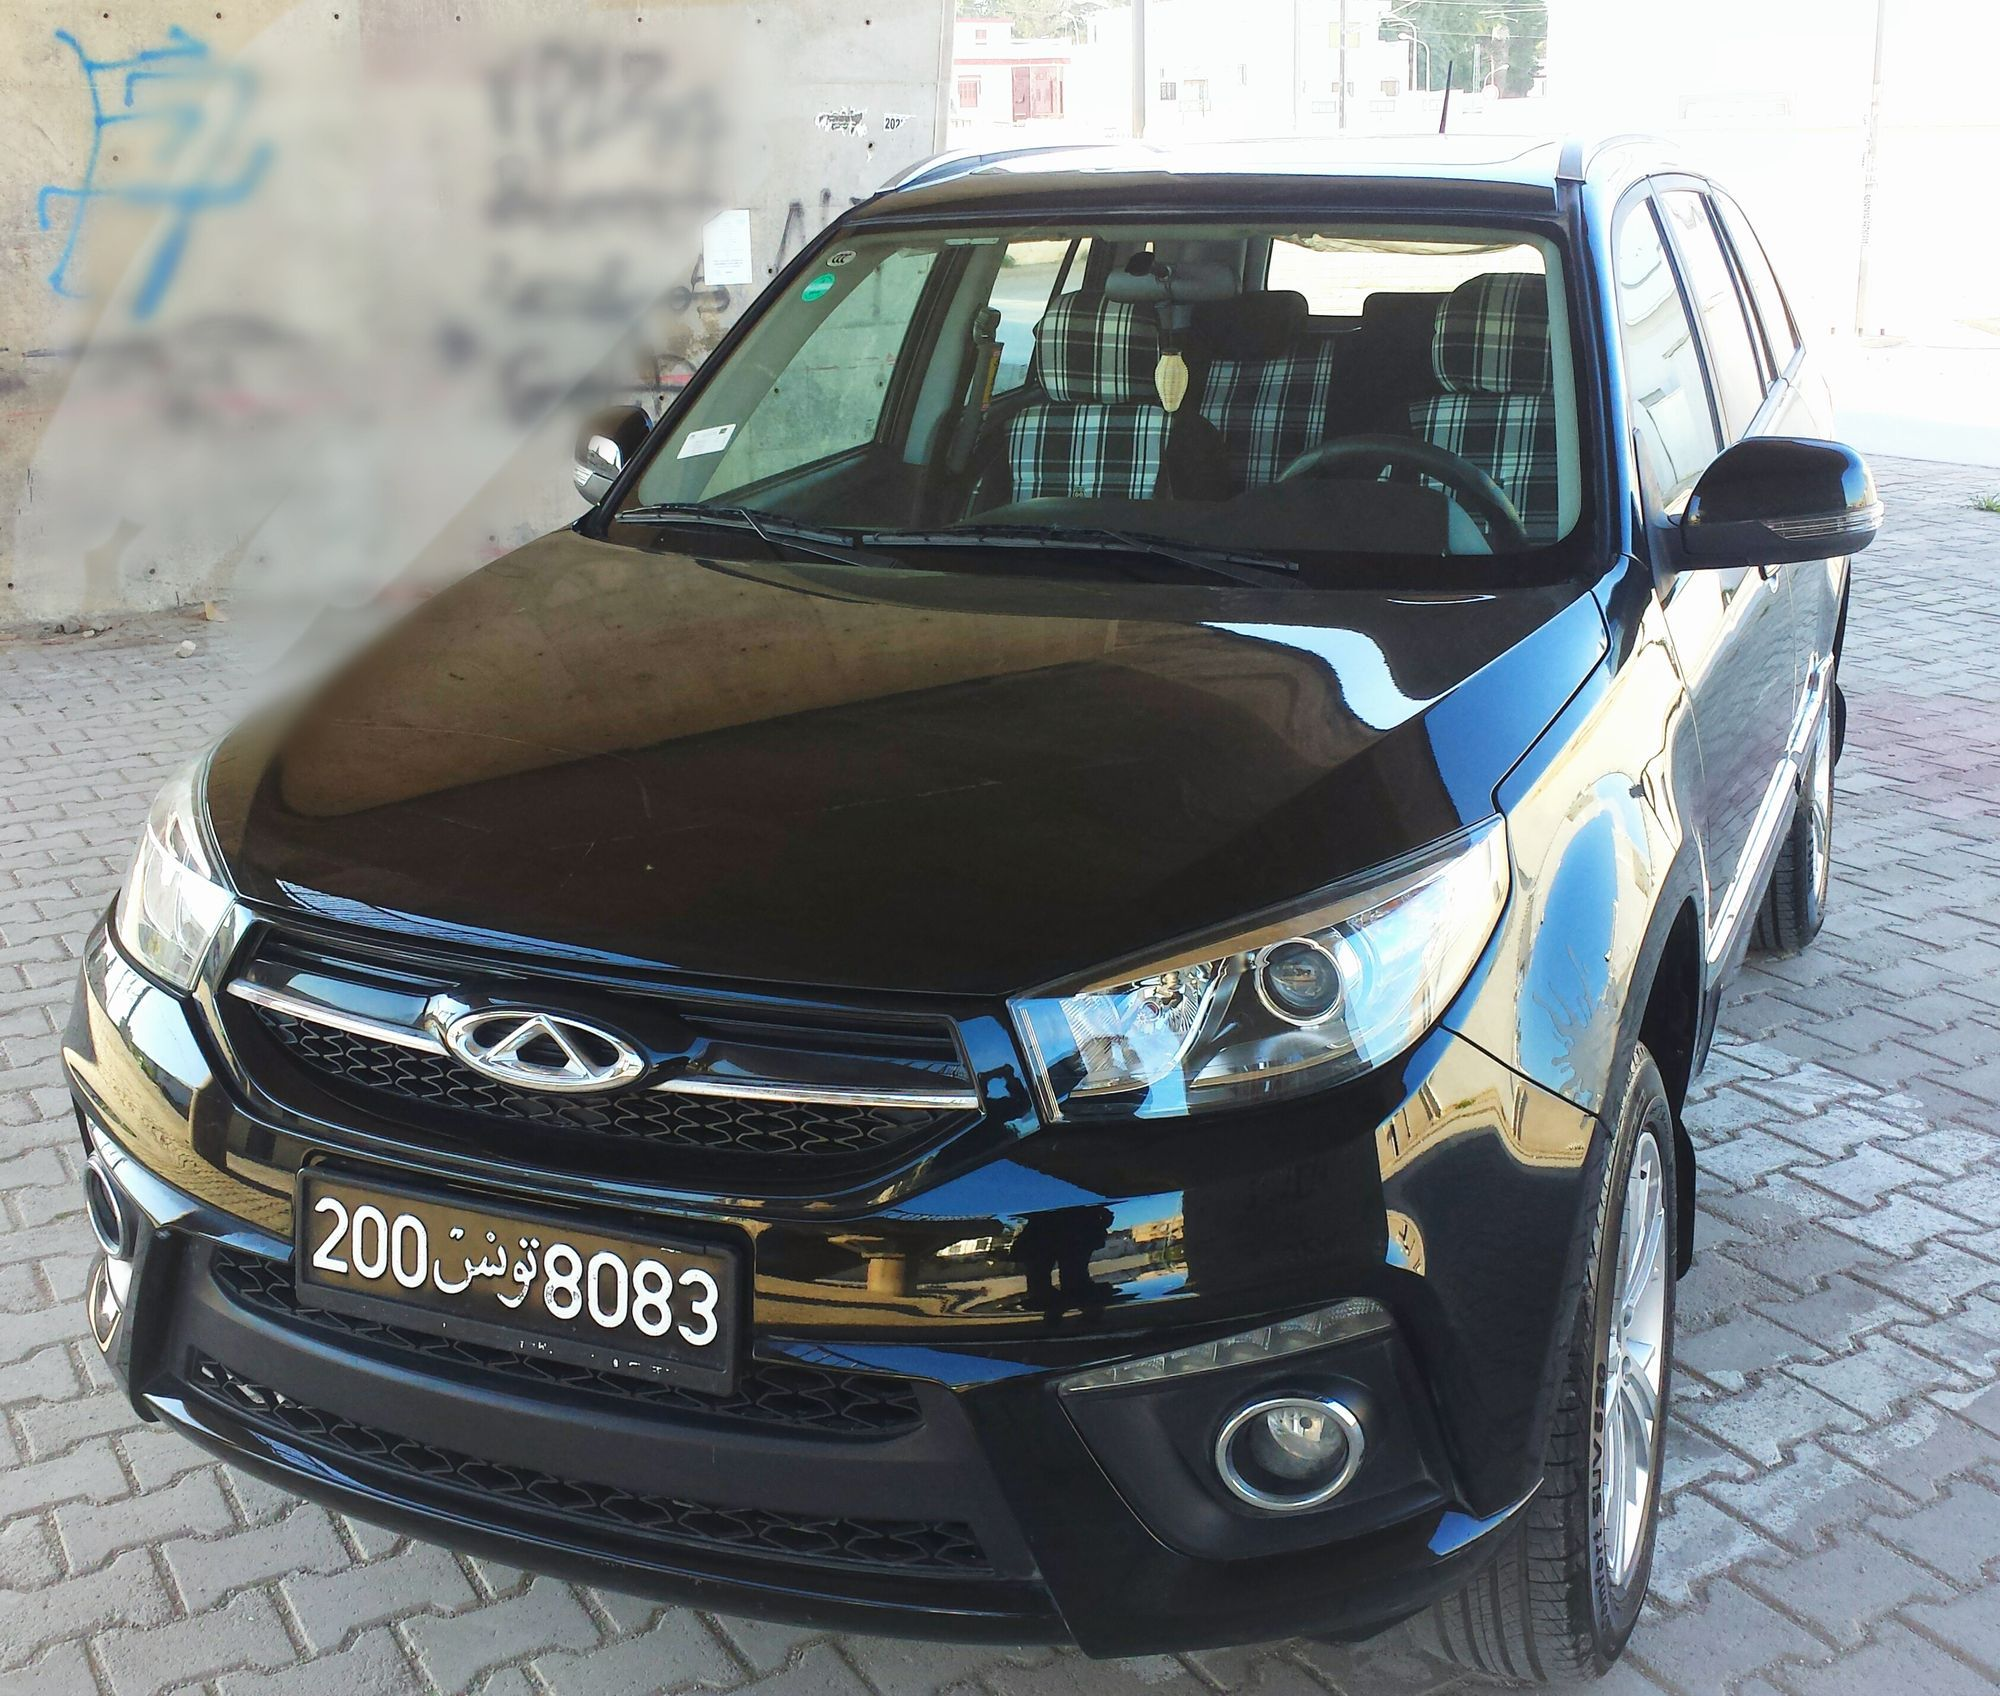LP: (295, 1161, 726, 1384)
